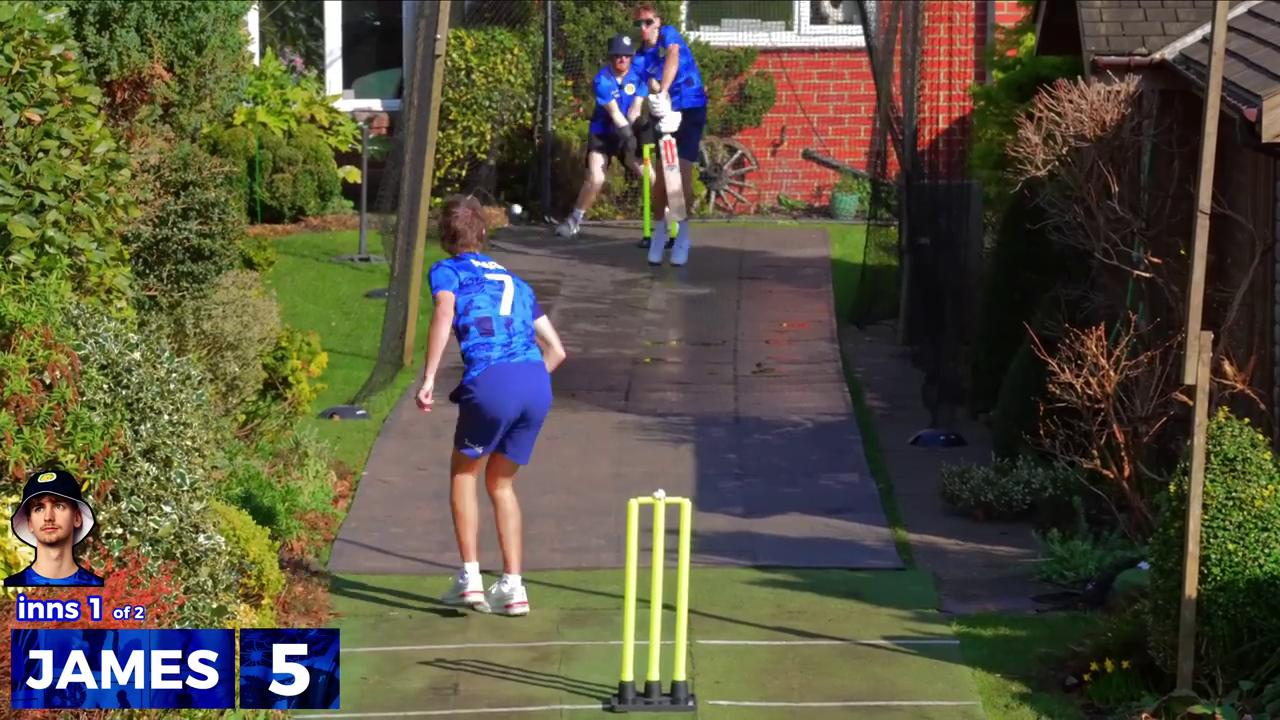ball: (503, 193, 529, 219)
